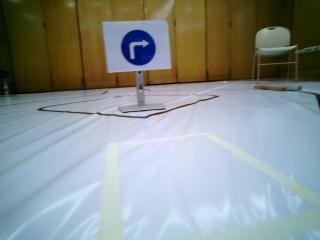right: (107, 24, 171, 70)
